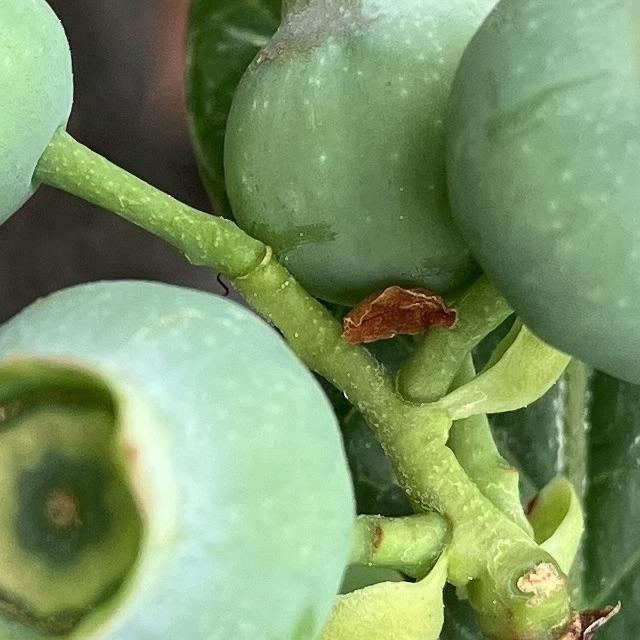Blueberries: (0, 274, 356, 640), (440, 0, 640, 388)
